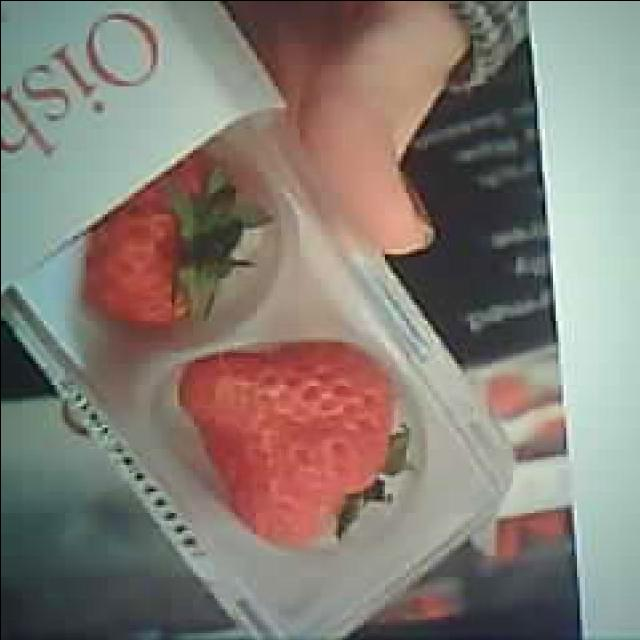strawberry: (181, 343, 395, 547)
